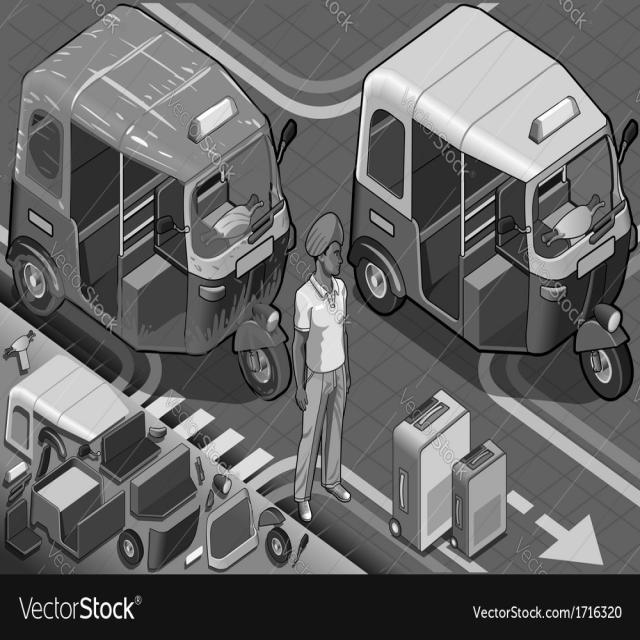Autorickshaw: (10, 23, 342, 417), (353, 8, 640, 433)
